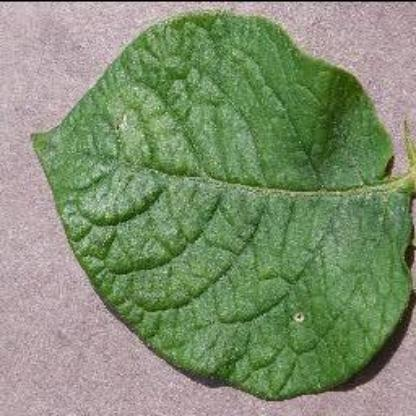Healthy-plant: (28, 5, 416, 407)
